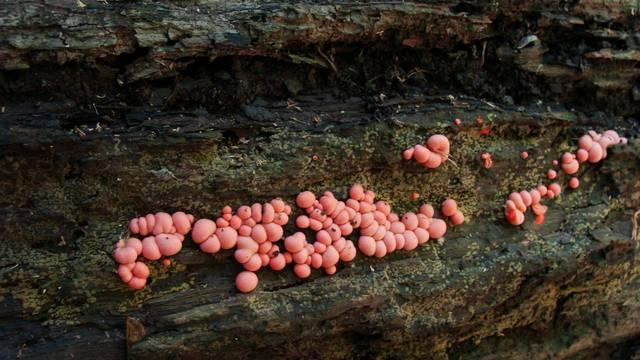Non-edible Mushroom: (111, 124, 627, 293), (112, 182, 464, 293), (502, 127, 627, 226), (112, 209, 193, 290), (401, 132, 455, 169), (426, 133, 450, 158), (234, 270, 258, 293)
